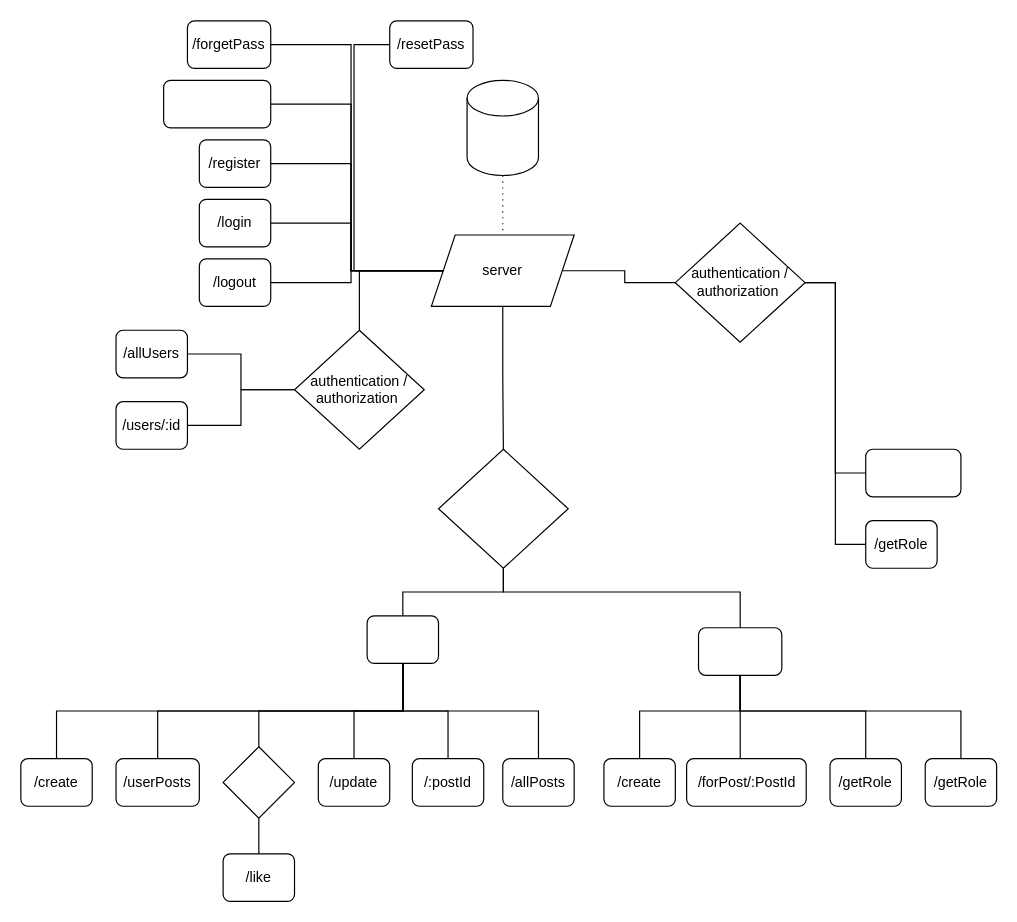
The diagram is 1017 pixels wide and 922 high, and some of its shapes have lost their labels. The shapes that lost their labels are listed below. From the top down, each one's centre as x and y in pixels, then its label:
(x=216, y=103): /auth/google
(x=502, y=127): mongodb
(x=913, y=472): /createRole
(x=502, y=508): authentication
(x=402, y=639): /posts
(x=739, y=651): /comments
(x=258, y=782): isLike
